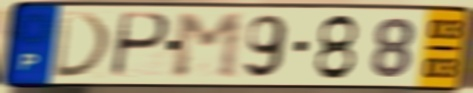8: (313, 13, 360, 82), (371, 16, 416, 79)
9: (241, 13, 289, 81)
D: (51, 10, 115, 81)
M: (171, 11, 245, 81)
P: (107, 10, 173, 81)
